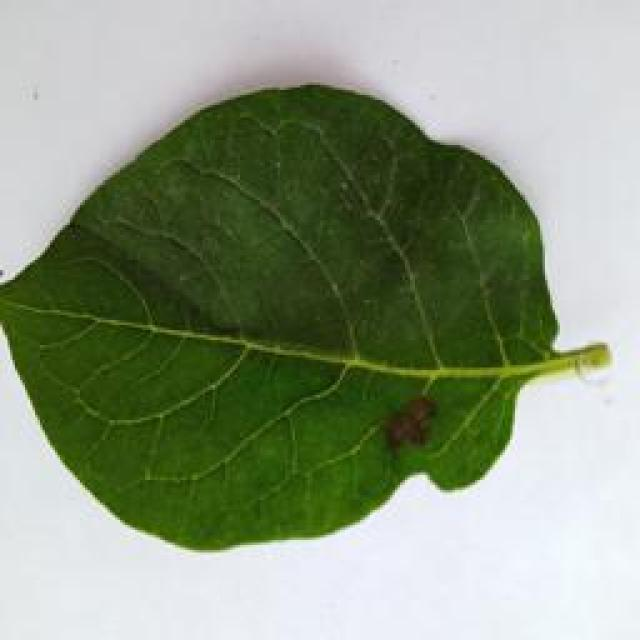Potato_Late_Blight: (14, 18, 603, 565)
